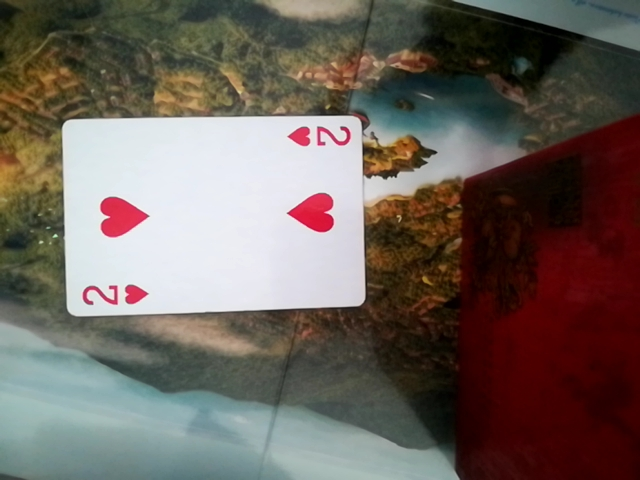hx 2: (58, 114, 370, 314)
